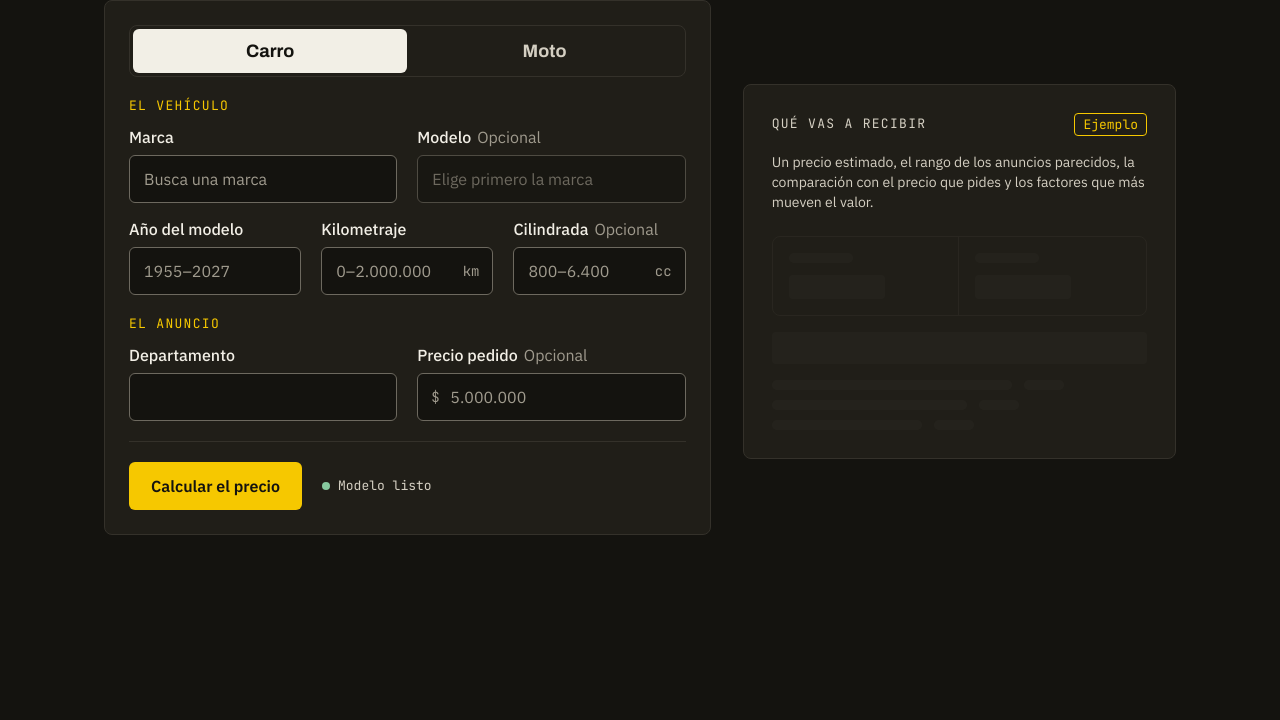
Scenario: the field ranges › share their range with the placeholder and the error message
The image size is (1280, 720).
Expected: the text "Modelo listo" is shown, [322,477,432,496]
Type "1900" into the field labelled "Año del modelo" at (215, 271), box [129,247,301,295]
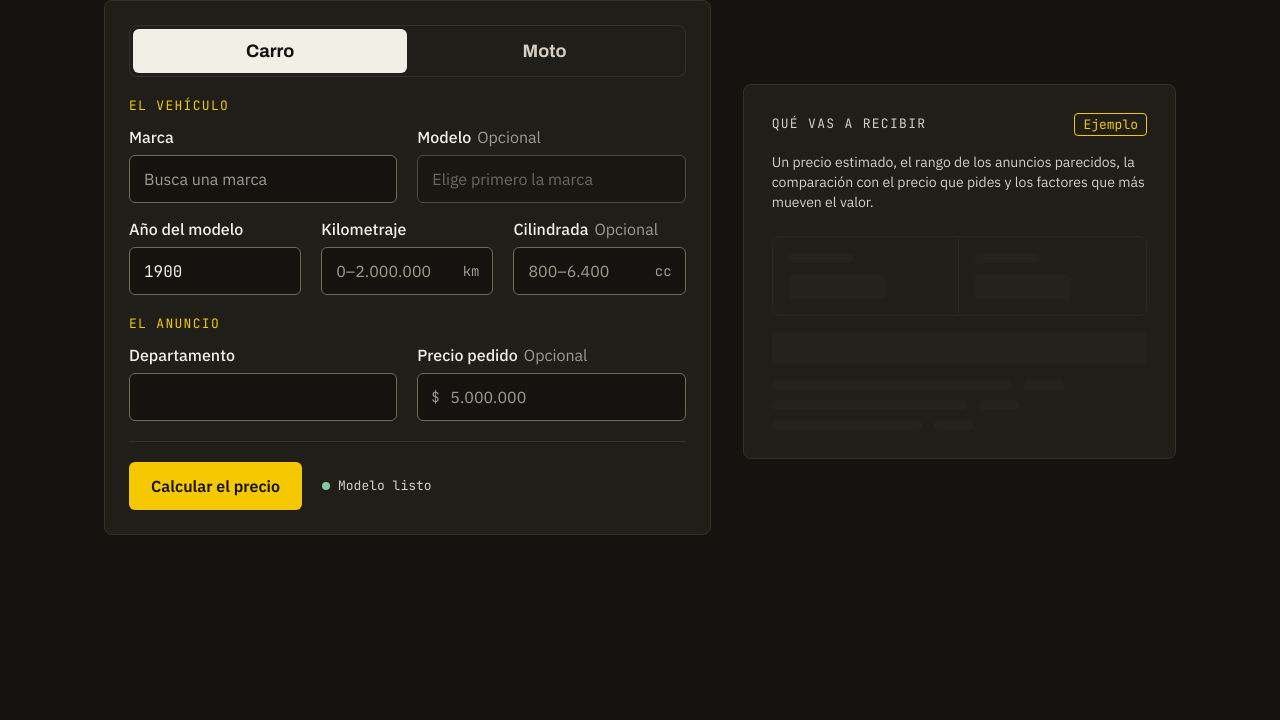
Leave the field labelled "Año del modelo", box [129,247,301,295]
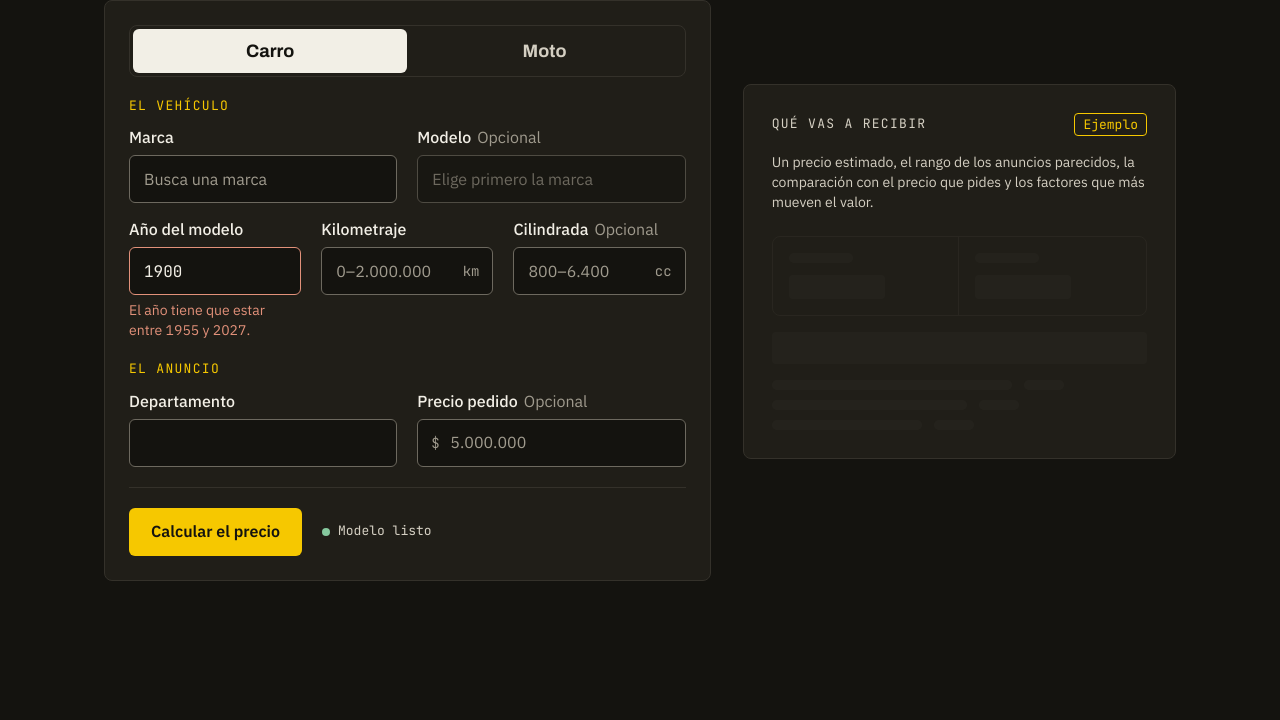
Now the text "El año tiene que estar entre 1955 y 2027." is shown, box [129,301,265,339]
Type "2000001" into the field labelled "Kilometraje" at (407, 271), box [321,247,493,295]
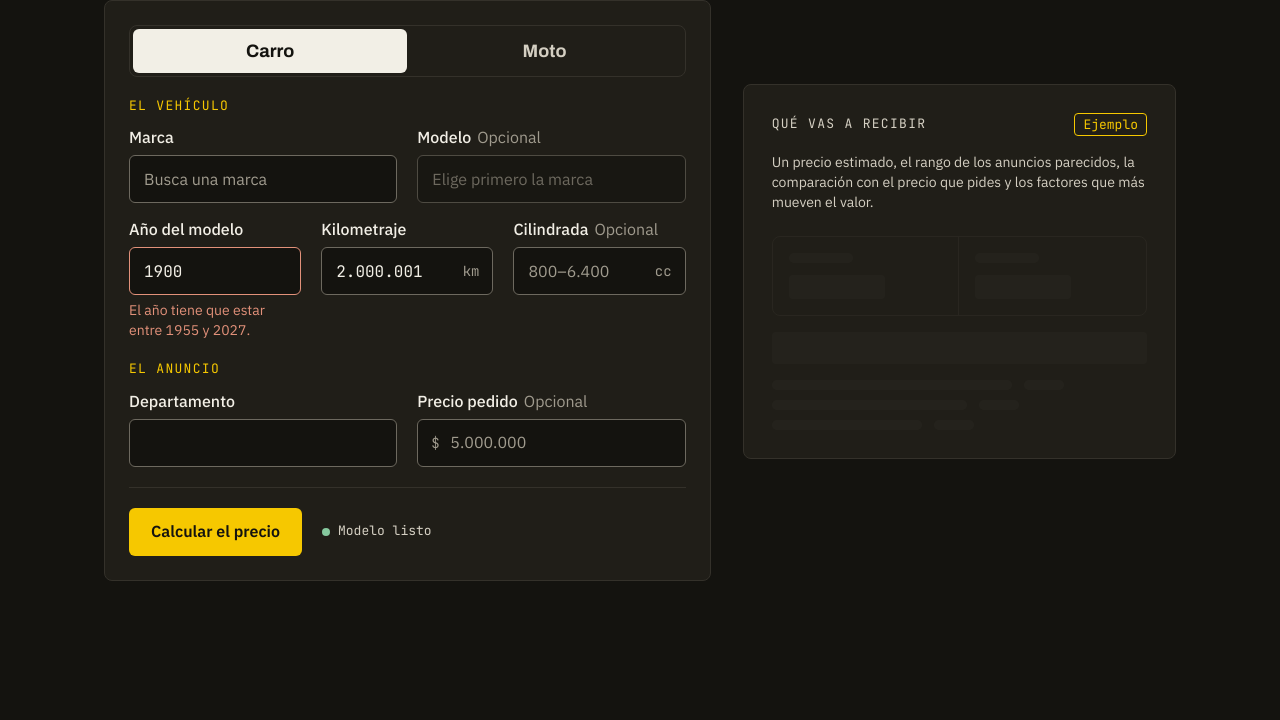
Leave the field labelled "Kilometraje", box [321,247,493,295]
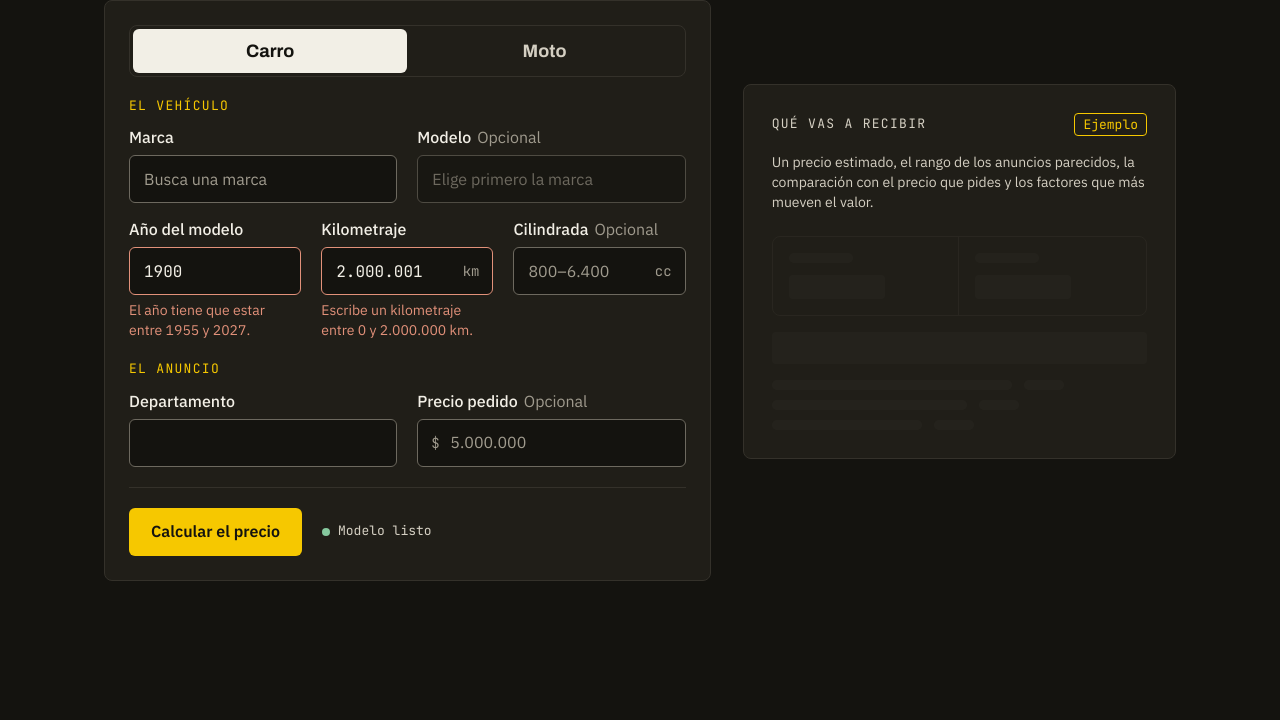
Now the text "Escribe un kilometraje entre 0 y 2.000.000 km." is shown, box [321,301,493,340]
